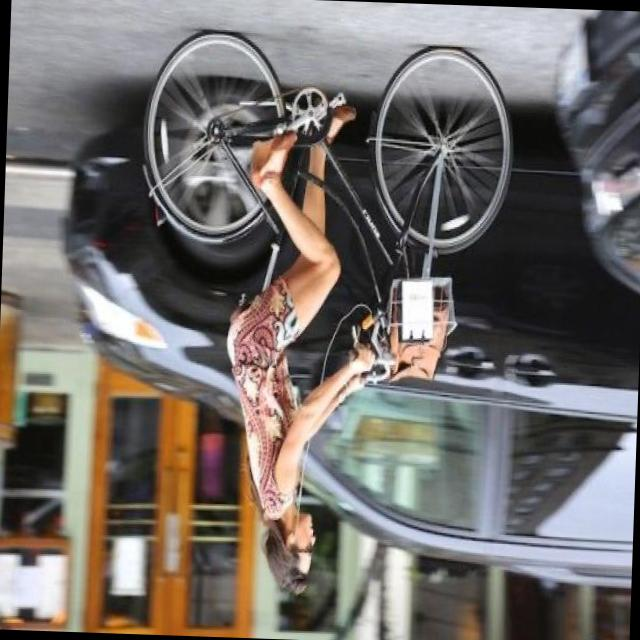bareface: (262, 507, 318, 600)
